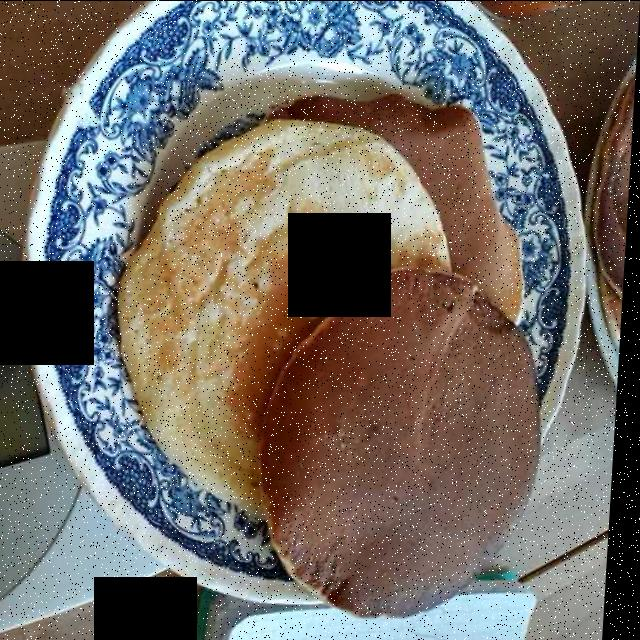pancakes: (115, 68, 557, 602)
